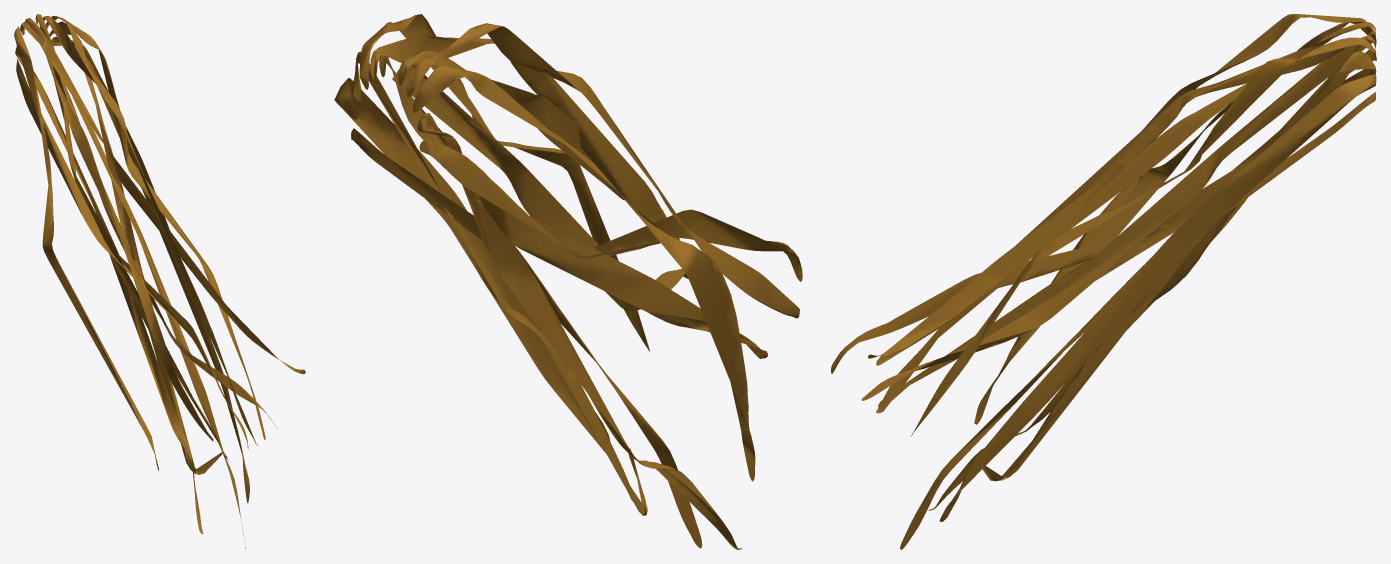
Rendered from Blades02.fbx.
The picture shows the model from 3 angles, left to right: view 1: azimuth 30°, elevation 25°; view 2: azimuth 150°, elevation 25°; view 3: azimuth 270°, elevation 25°; orthographic projection. The views are drawn at different scales.
Visible parts, largest first — view 1: polySurface52, polySurface53, polySurface54, polySurface51, polySurface55, polySurface48, polySurface46, polySurface44, polySurface47, polySurface45, polySurface49, polySurface50; view 2: polySurface53, polySurface49, polySurface54, polySurface55, polySurface52, polySurface45, polySurface48, polySurface50, polySurface46, polySurface44, polySurface47, polySurface51; view 3: polySurface45, polySurface50, polySurface51, polySurface47, polySurface48, polySurface49, polySurface46, polySurface53, polySurface55, polySurface44, polySurface52, polySurface54.
Boxes of the visible parts, x1,y1,x2,y2 form: polySurface52: [20, 22, 213, 441]; polySurface53: [14, 26, 158, 470]; polySurface54: [15, 45, 203, 534]; polySurface51: [25, 18, 305, 374]; polySurface55: [16, 59, 248, 448]; polySurface48: [43, 16, 258, 445]; polySurface46: [49, 21, 222, 474]; polySurface44: [72, 96, 245, 548]; polySurface47: [45, 16, 265, 439]; polySurface45: [51, 37, 249, 502]; polySurface49: [35, 14, 228, 460]; polySurface50: [39, 27, 278, 429]; polySurface53: [412, 66, 755, 481]; polySurface49: [379, 55, 767, 358]; polySurface54: [417, 113, 741, 549]; polySurface55: [419, 139, 802, 281]; polySurface52: [406, 23, 799, 318]; polySurface45: [334, 78, 632, 501]; polySurface48: [370, 35, 679, 240]; polySurface50: [392, 64, 688, 311]; polySurface46: [352, 51, 647, 515]; polySurface44: [351, 128, 702, 548]; polySurface47: [359, 14, 649, 351]; polySurface51: [398, 50, 624, 200]; polySurface45: [939, 74, 1376, 521]; polySurface50: [861, 39, 1375, 400]; polySurface51: [868, 22, 1375, 358]; polySurface47: [911, 37, 1376, 435]; polySurface48: [876, 35, 1375, 413]; polySurface49: [878, 28, 1375, 406]; polySurface46: [982, 51, 1375, 481]; polySurface53: [974, 20, 1375, 424]; polySurface55: [831, 69, 1376, 373]; polySurface44: [900, 92, 1375, 549]; polySurface52: [876, 14, 1376, 365]; polySurface54: [928, 50, 1376, 510].
Size of the model in its own units: 1.05 by 2.82 by 2.74.
